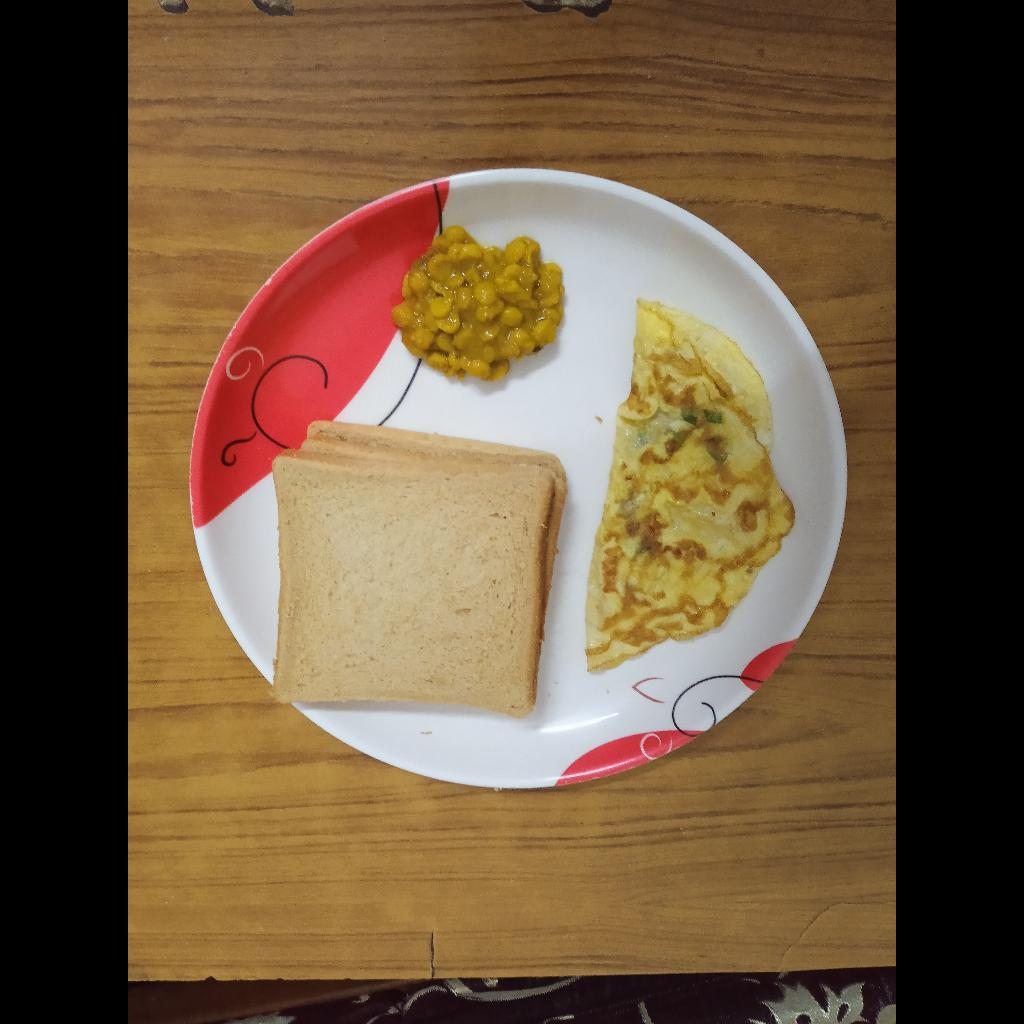bread: (269, 420, 569, 714)
daal: (396, 223, 556, 377)
egg-poached: (589, 300, 801, 673)
